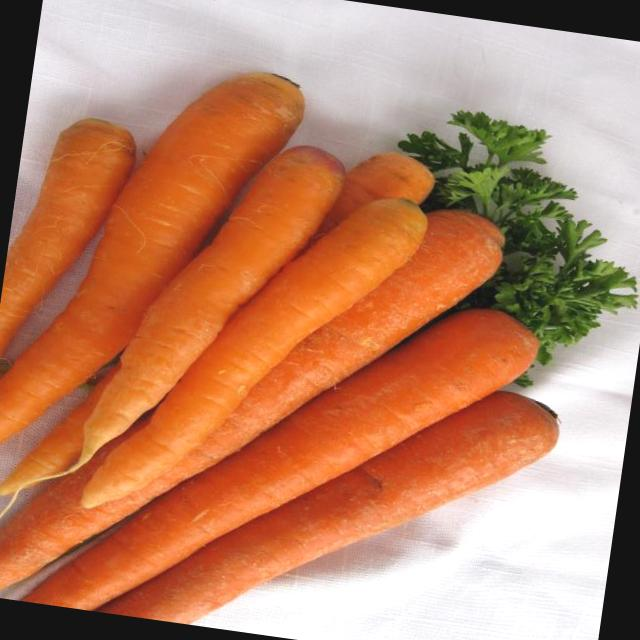carrot: (26, 307, 537, 610), (0, 69, 308, 445), (81, 198, 432, 511), (110, 388, 558, 623), (84, 148, 346, 444), (0, 118, 134, 371)
